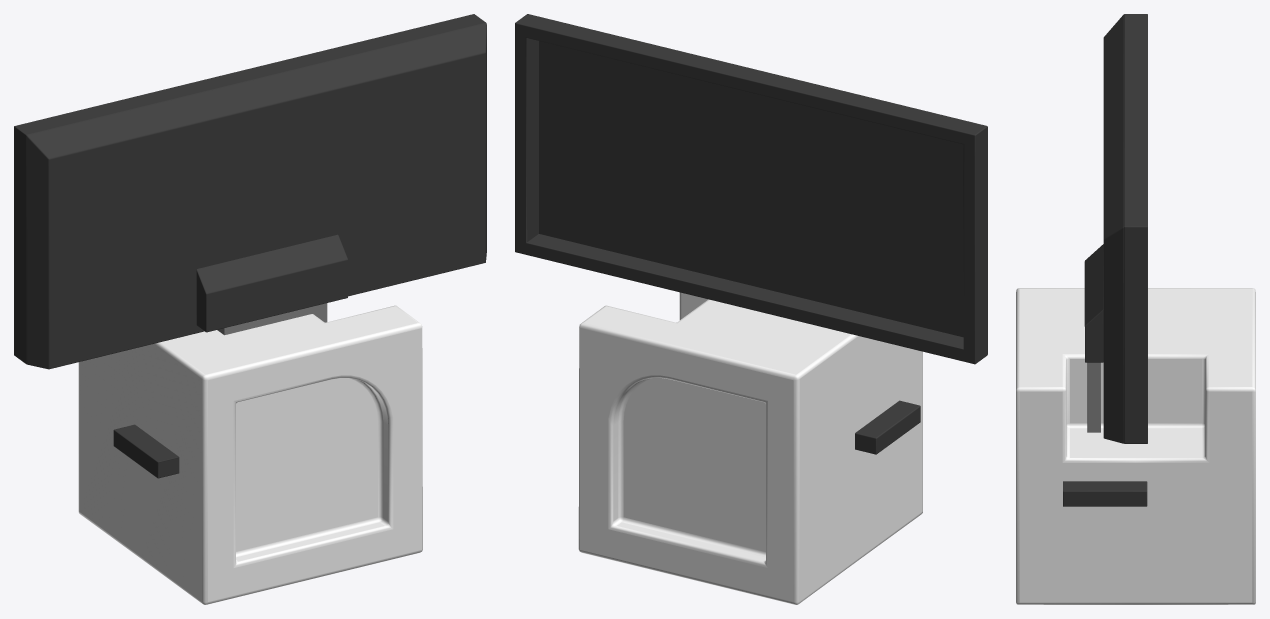
Rendered from red_bevel_test.gltf.
3 renders of one model, left to right at view 1: azimuth 30°, elevation 25°; view 2: azimuth 150°, elevation 25°; view 3: azimuth 270°, elevation 25°, orthographic. The views are drawn at different scales.
Visible parts, largest first — view 1: tv, Cube; view 2: tv, Cube; view 3: Cube, tv.
Part boxes in pixels (bbox=[...]): tv: bbox=[14, 14, 486, 478]; Cube: bbox=[78, 305, 422, 604]; tv: bbox=[515, 14, 987, 454]; Cube: bbox=[578, 292, 922, 604]; Cube: bbox=[1016, 288, 1255, 604]; tv: bbox=[1063, 14, 1147, 506].
Bounding box in the file's own units: 4.2 × 4 × 2.
3 materials, 2 textured.
